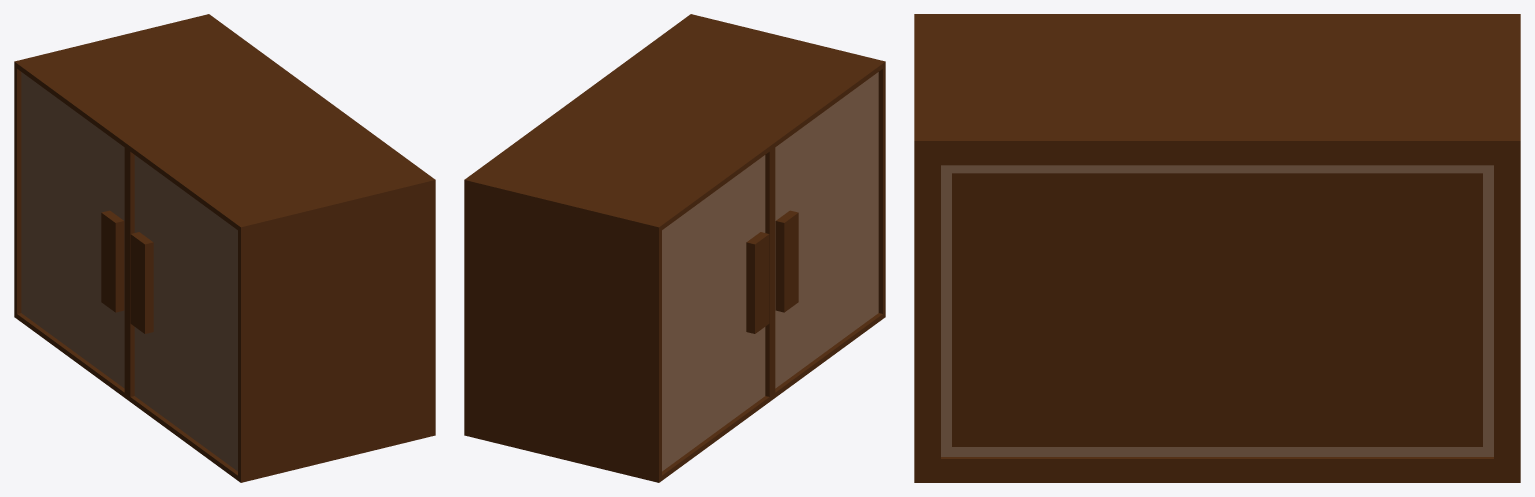
Rendered from CaixaColorida.fbx.
The picture shows the model from 3 angles, left to right: view 1: azimuth 30°, elevation 25°; view 2: azimuth 150°, elevation 25°; view 3: azimuth 270°, elevation 25°; orthographic projection. The views are drawn at different scales.
Visible parts, largest first — view 1: Тумба; view 2: Тумба; view 3: Тумба.
Part boxes in pixels (x1,y1,x2,y2): Тумба: (14, 14, 435, 482); Тумба: (464, 14, 885, 482); Тумба: (914, 14, 1520, 482).
Bounding box in the file's own units: 405 × 497 × 798.
